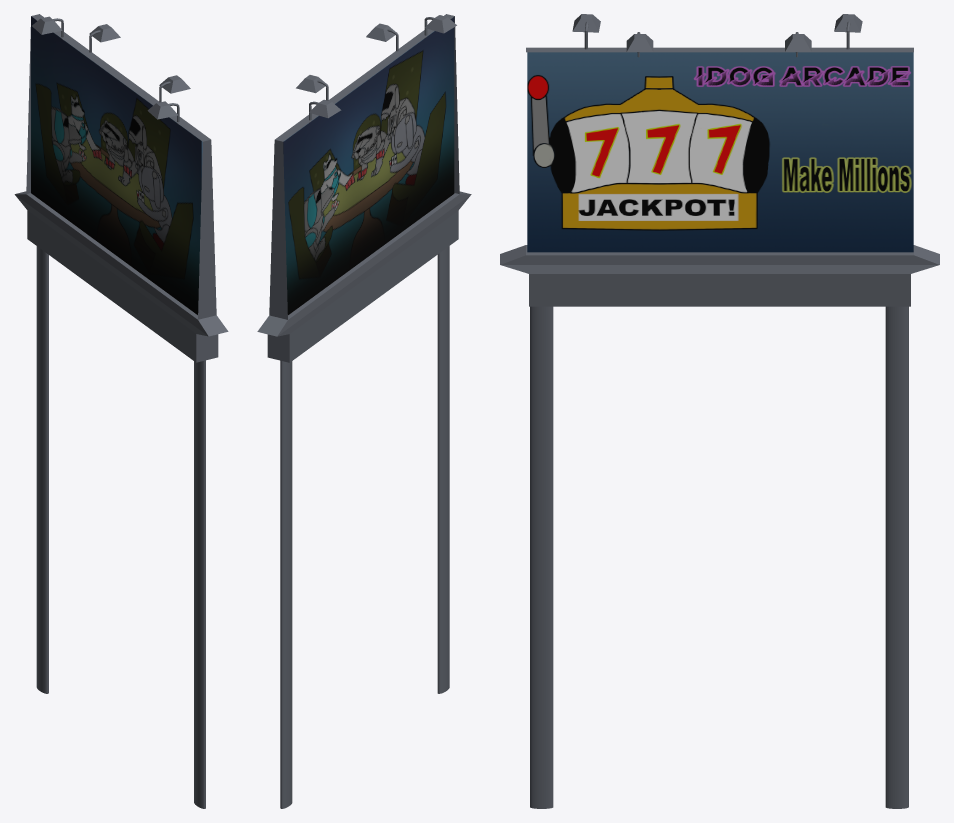
File: billboard 2 (slot and dogs playing poker).fbx
The picture shows the model from 3 angles, left to right: view 1: azimuth 30°, elevation 25°; view 2: azimuth 150°, elevation 25°; view 3: azimuth 270°, elevation 25°; orthographic projection. The views are drawn at different scales.
Parts seen in each view (by area): view 1: Cube; view 2: Cube; view 3: Cube.
Part boxes in pixels (x1,y1,x2,y2): Cube: (14, 14, 228, 808); Cube: (257, 14, 471, 808); Cube: (500, 14, 939, 808).
Size of the model in its own units: 412 by 4793 by 2446.
